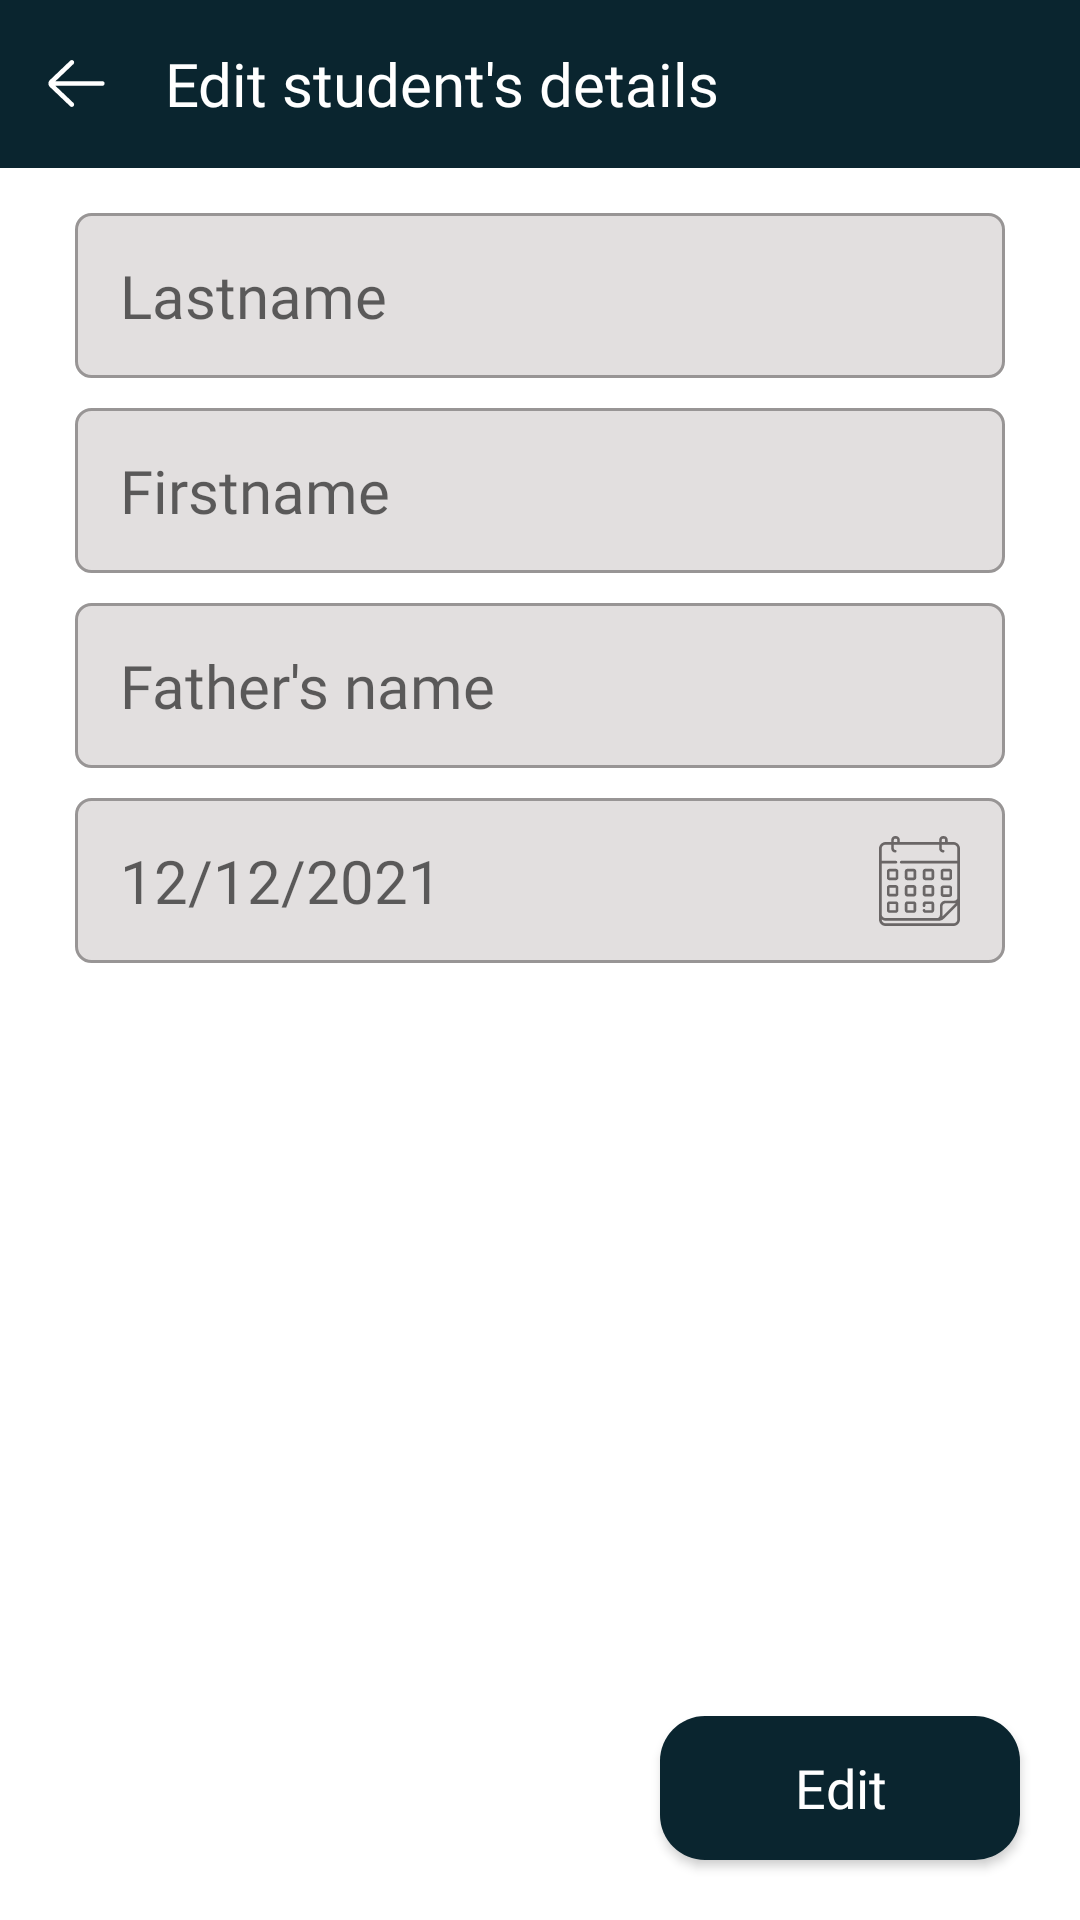

Named icons in this screenshot (1080px x 1920px) and their bounding boxes, [left=x1, top=y1, right=x2, bottom=y2]:
back: [left=48, top=60, right=105, bottom=107]
calendar: [left=879, top=836, right=960, bottom=926]
